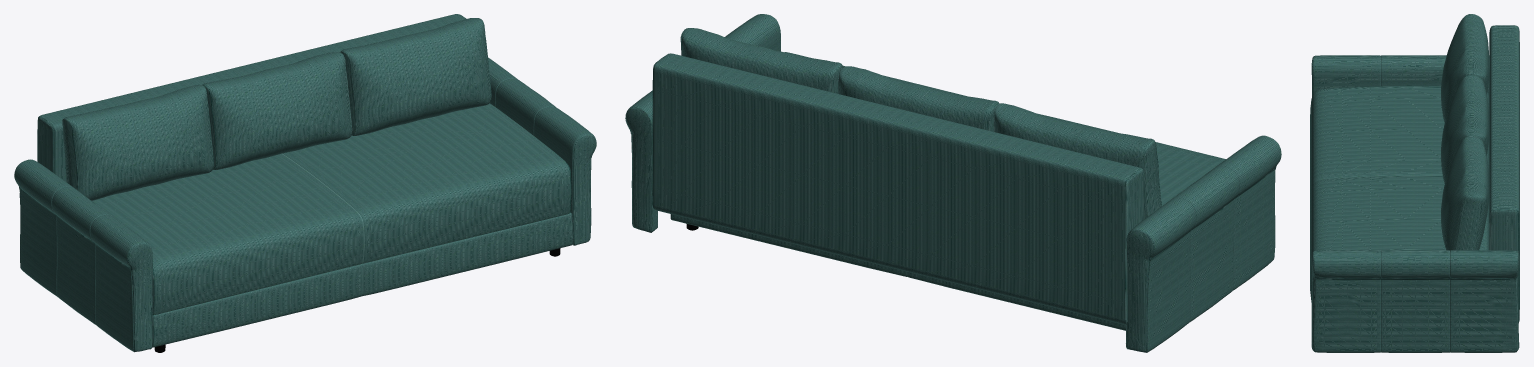
File: danhult_sofa_3_osobowa_rozkadana_20572461.glb
3 views of the same model, side by side, from view 1: azimuth 30°, elevation 25°; view 2: azimuth 150°, elevation 25°; view 3: azimuth 270°, elevation 25° (orthographic). The views are drawn at different scales.
Visible parts, largest first — view 1: danhult_sofa_3_osobowa_rozkadana_20572461; view 2: danhult_sofa_3_osobowa_rozkadana_20572461; view 3: danhult_sofa_3_osobowa_rozkadana_20572461.
Part boxes in pixels (<box>): danhult_sofa_3_osobowa_rozkadana_20572461: <box>14,14,596,352</box>; danhult_sofa_3_osobowa_rozkadana_20572461: <box>625,14,1281,352</box>; danhult_sofa_3_osobowa_rozkadana_20572461: <box>1310,14,1519,352</box>.
Size of the model in its own units: 2.2 by 0.7768 by 0.9412.
Materials: 2 (1 with a texture image).
